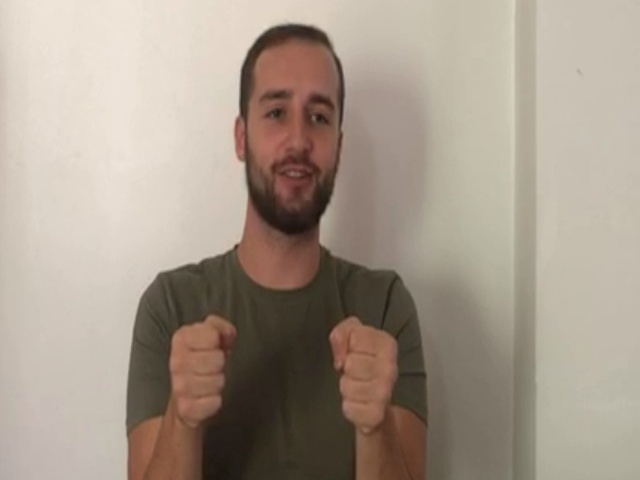Sili: (164, 312, 402, 438)
